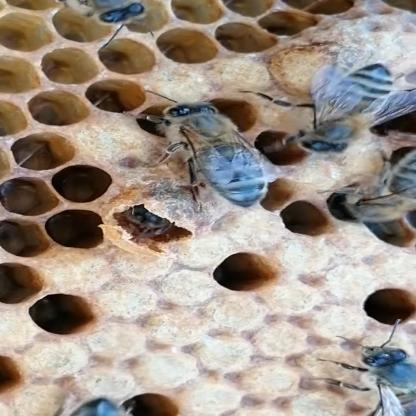bee: (119, 90, 280, 222), (274, 29, 414, 153), (303, 317, 416, 416), (313, 151, 416, 254), (44, 0, 169, 61), (67, 364, 174, 416)
